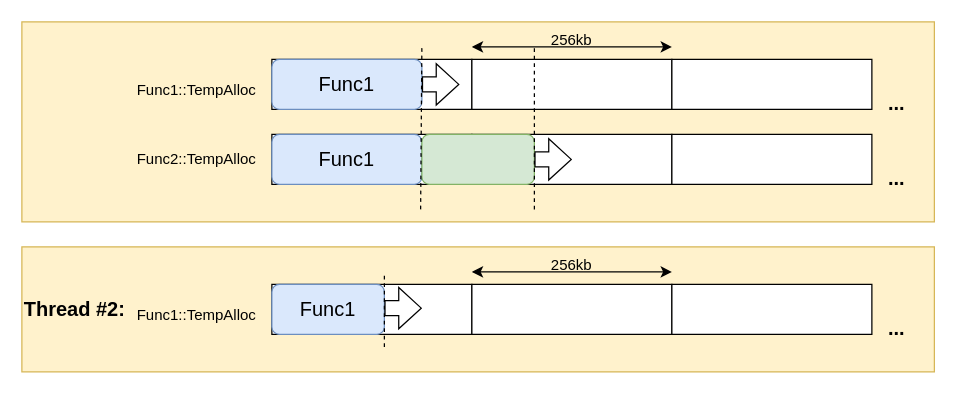
Image size: 956x394. Some labels were removed from this diagram. Here are the shapes that lost their labels. From the top down, the box of each, then its label:
(21, 21, 934, 222): Thread #1:
(421, 133, 534, 184): Func2
